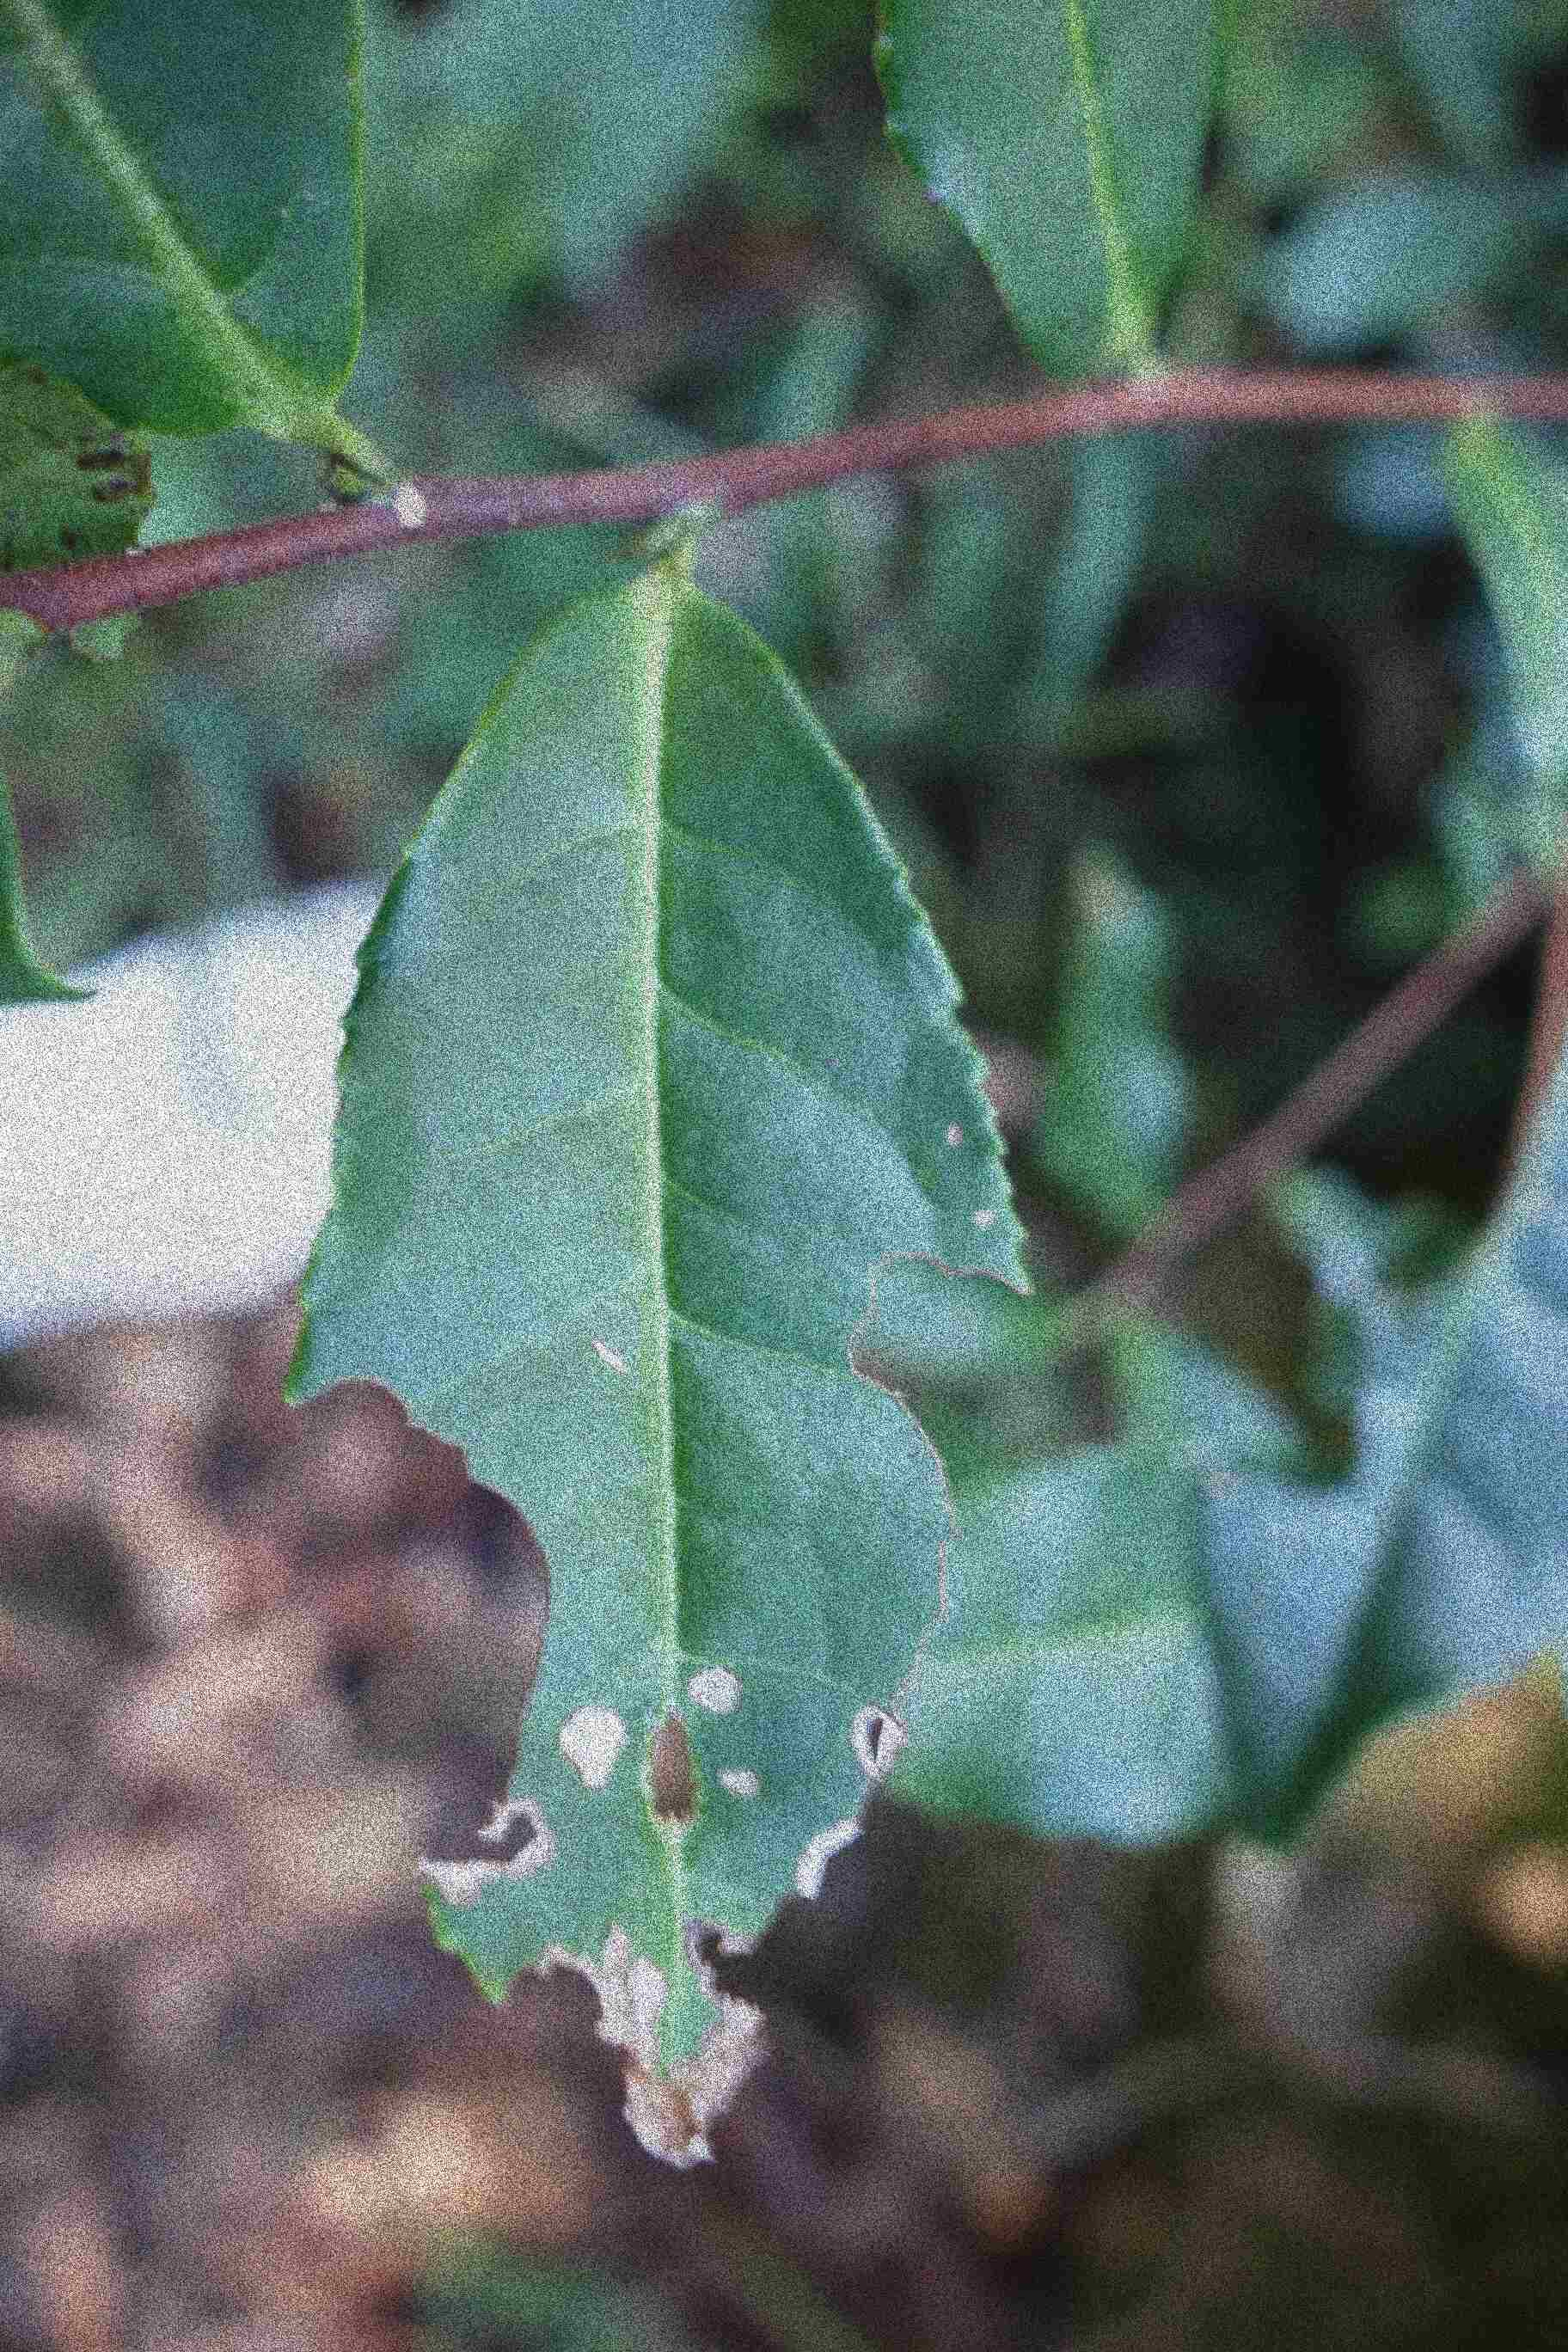chihuo_high: (275, 567, 1031, 2166)
